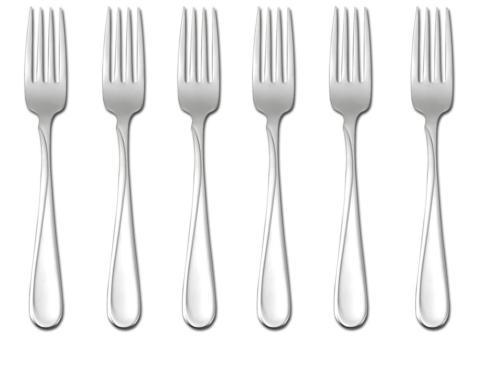Fork: (24, 6, 70, 333), (251, 6, 297, 333), (410, 6, 456, 333), (102, 6, 147, 333), (177, 6, 222, 333), (329, 6, 374, 333)
